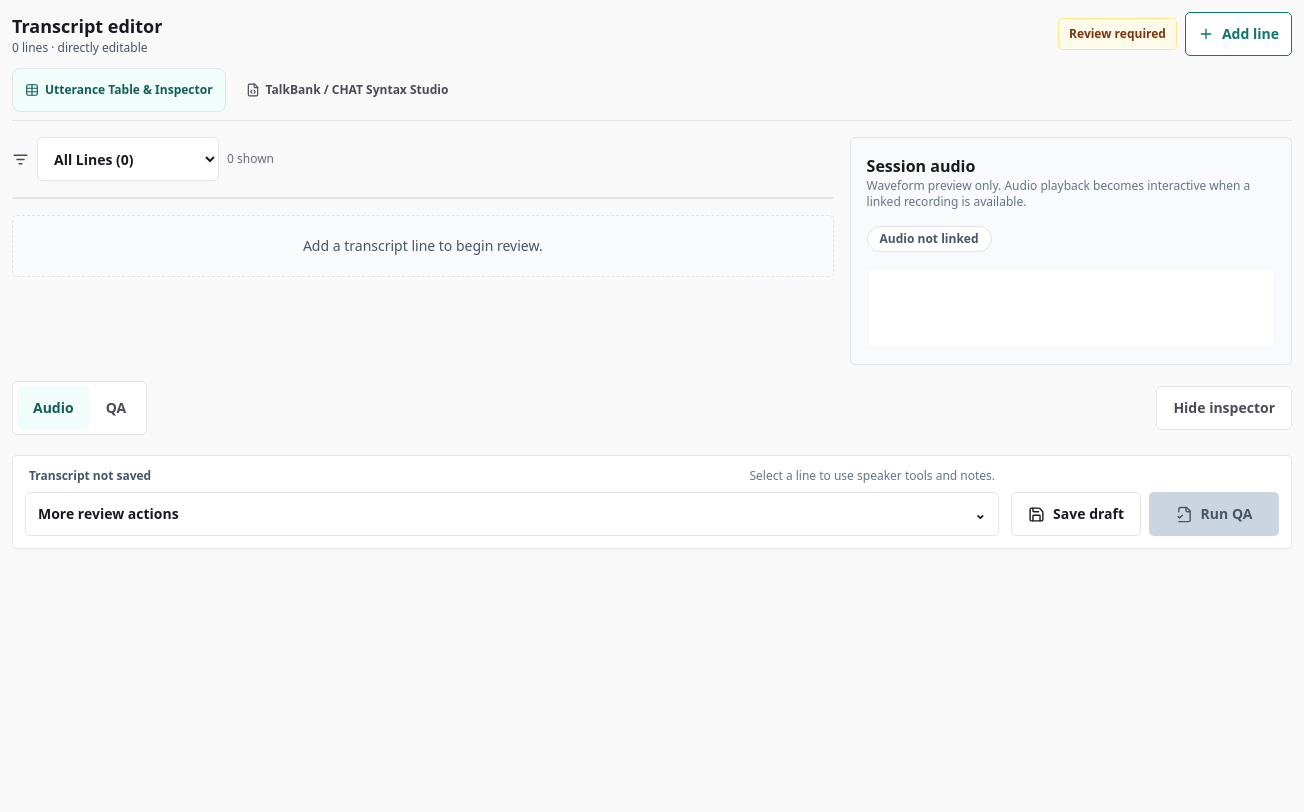
Scenario: TranscriptEditorPanel › shows the sticky bottom review actions and keeps export disabled when there are no lines
Click the text "More review actions" at [108, 514], box [38, 504, 179, 524]
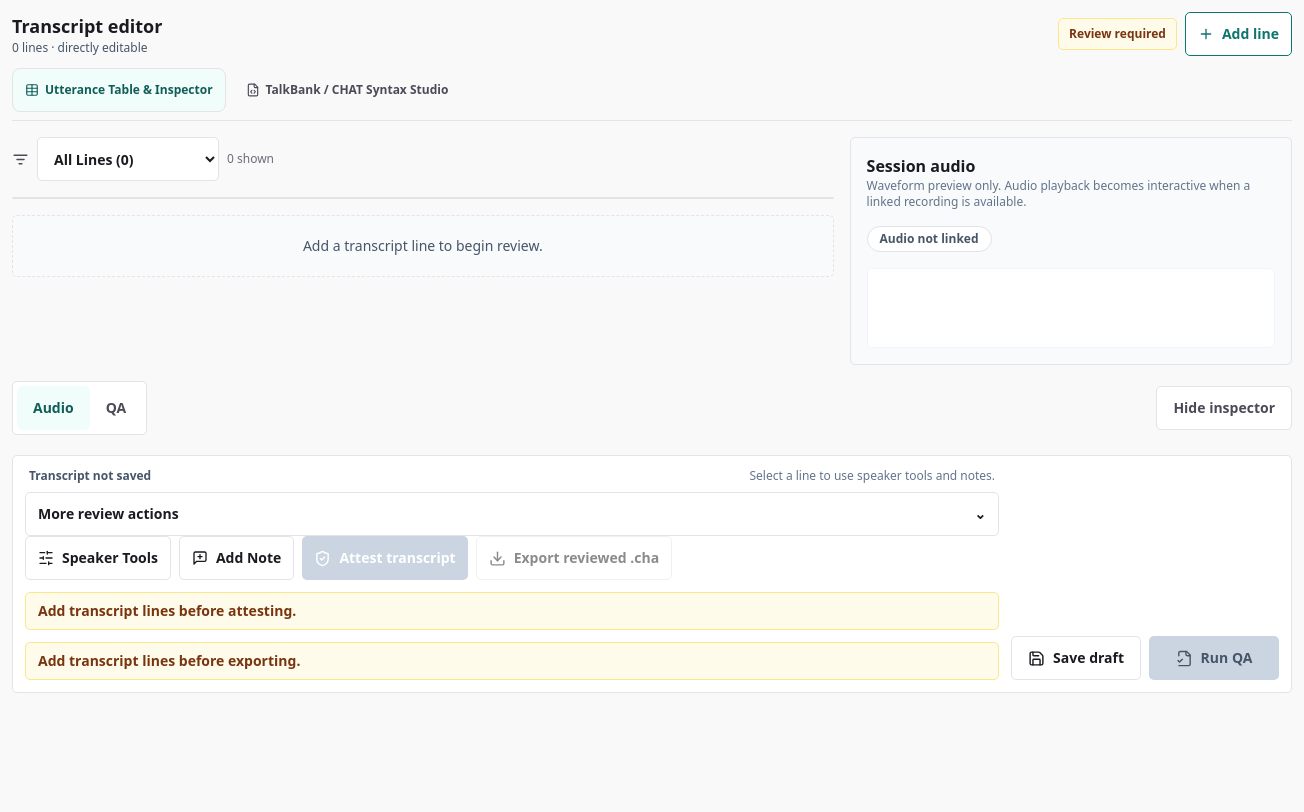
Expected: the button "Speaker Tools" is shown, [25, 536, 171, 580]
Expected: the button "Add Note" is shown, [179, 536, 294, 580]
Expected: the button "Attest transcript" is disabled, [302, 536, 468, 580]
